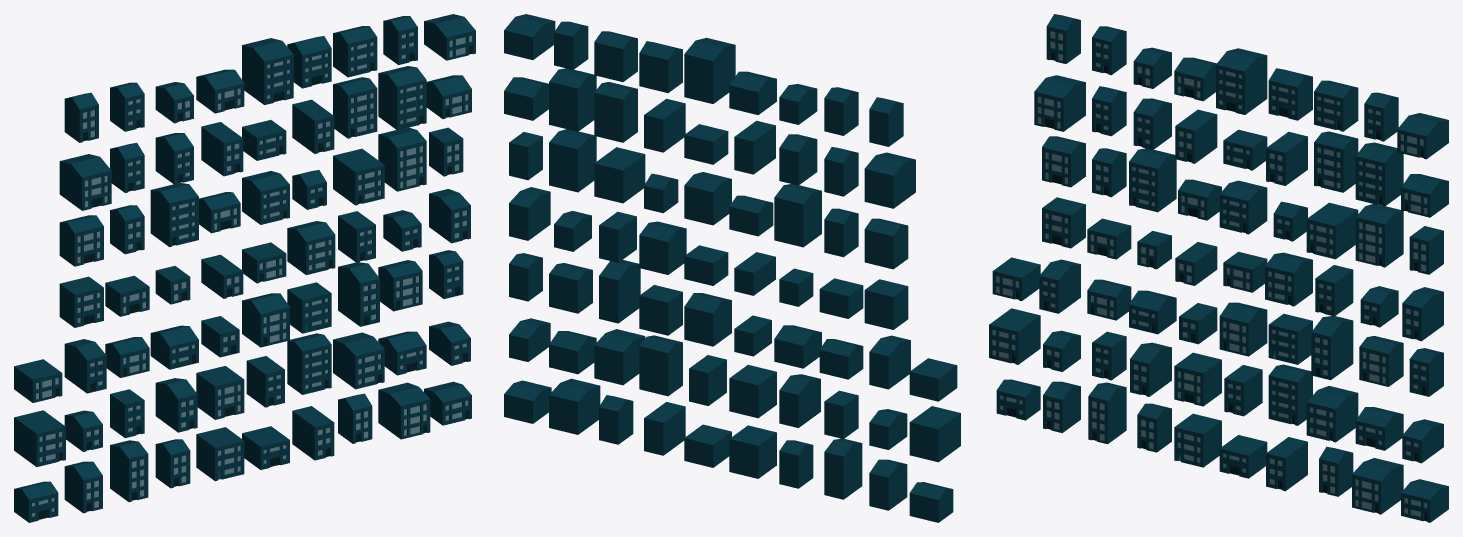
File: Bina.gltf
3 renders of one model, left to right at view 1: azimuth 30°, elevation 25°; view 2: azimuth 150°, elevation 25°; view 3: azimuth 330°, elevation 25°, orthographic.
Visible parts, largest first — view 1: Building_049.006, Building_037.006, Building_071.006, Building_072.006, Building_061.006, Building_068.006, Building_076.006, Building_022.006, Building_065.006, Building_020, Building_067.006, Building_064.006 (+54 smaller); view 2: Building_049.006, Building_037.006, Building_072.006, Building_071.006, Building_022.006, Building_076.006, Building_020, Building_061.006, Building_065.006, Building_064.006, Building_067.006, Building_068.006 (+54 smaller); view 3: Building_049.006, Building_037.006, Building_071.006, Building_072.006, Building_067.006, Building_068.006, Building_020, Building_022.006, Building_076.006, Building_065.006, Building_061.006, Building_064.006 (+54 smaller).
Boxes of the visible parts, left/top/right/bottom form: Building_049.006: left=242, top=38, right=293, bottom=104; Building_037.006: left=150, top=183, right=198, bottom=247; Building_071.006: left=378, top=66, right=426, bottom=130; Building_072.006: left=378, top=127, right=426, bottom=191; Building_061.006: left=287, top=333, right=331, bottom=394; Building_068.006: left=333, top=332, right=384, bottom=389; Building_076.006: left=378, top=382, right=430, bottom=439; Building_022.006: left=59, top=154, right=111, bottom=210; Building_065.006: left=333, top=148, right=384, bottom=205; Building_020: left=14, top=410, right=65, bottom=466; Building_067.006: left=338, top=262, right=379, bottom=326; Building_064.006: left=333, top=77, right=377, bottom=138; Building_049.006: left=684, top=37, right=735, bottom=103; Building_037.006: left=774, top=184, right=821, bottom=247; Building_072.006: left=549, top=129, right=596, bottom=192; Building_071.006: left=549, top=68, right=596, bottom=131; Building_022.006: left=864, top=152, right=915, bottom=208; Building_076.006: left=549, top=378, right=600, bottom=434; Building_020: left=909, top=406, right=960, bottom=462; Building_061.006: left=639, top=335, right=682, bottom=396; Building_065.006: left=594, top=147, right=645, bottom=203; Building_064.006: left=594, top=82, right=637, bottom=142; Building_067.006: left=599, top=260, right=640, bottom=323; Building_068.006: left=594, top=329, right=645, bottom=385; Building_049.006: left=1216, top=48, right=1267, bottom=114; Building_037.006: left=1129, top=148, right=1176, bottom=212; Building_071.006: left=1355, top=142, right=1403, bottom=206; Building_072.006: left=1355, top=204, right=1403, bottom=267; Building_067.006: left=1311, top=316, right=1353, bottom=380; Building_068.006: left=1306, top=386, right=1358, bottom=442; Building_020: left=989, top=308, right=1040, bottom=364; Building_022.006: left=1034, top=75, right=1085, bottom=131; Building_076.006: left=1352, top=458, right=1403, bottom=514; Building_065.006: left=1306, top=202, right=1358, bottom=259; Building_061.006: left=1268, top=364, right=1312, bottom=425; Building_064.006: left=1314, top=131, right=1358, bottom=192.
Bounding box in the file's own units: 0.7337 × 0.6652 × 0.0652.
